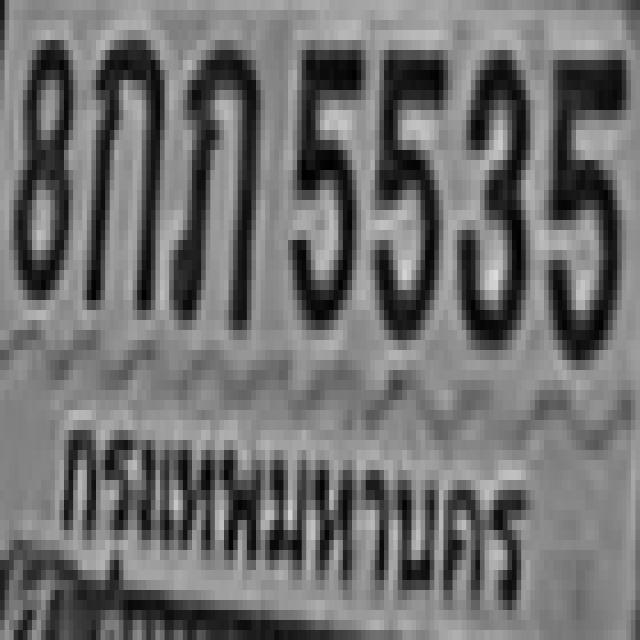10GorGai: (82, 30, 160, 300)
3: (452, 40, 526, 340)
41PhorSamPhao: (169, 30, 256, 320)
5: (544, 35, 622, 355), (371, 40, 444, 330), (288, 30, 361, 320)
8: (9, 30, 69, 290)
Bangkok: (46, 400, 536, 619)
